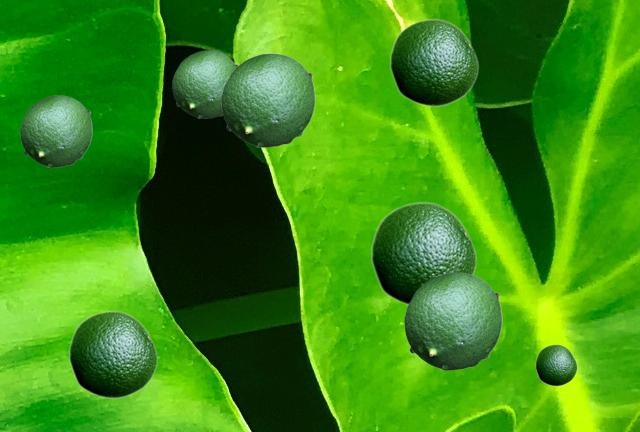calamansi: (370, 201, 476, 305), (404, 272, 501, 369), (221, 53, 314, 146), (389, 18, 478, 106), (68, 310, 157, 398), (20, 95, 91, 166), (172, 50, 237, 117), (535, 344, 576, 385)
